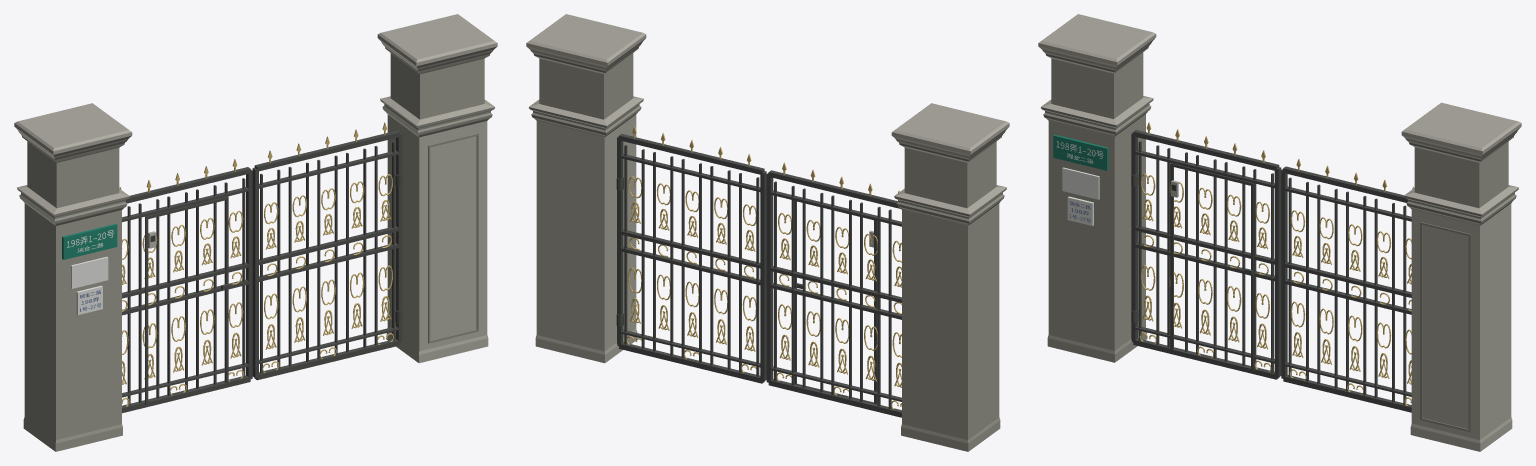
The model's file is huangpu-anhe-terrace-ruijin-gate-raw.glb.
3 views of the same model, side by side, from view 1: azimuth 30°, elevation 25°; view 2: azimuth 150°, elevation 25°; view 3: azimuth 330°, elevation 25° (orthographic).
Visible parts, largest first — view 1: 安和新村瑞金二路198弄金饰铁门与门牌柱; view 2: 安和新村瑞金二路198弄金饰铁门与门牌柱; view 3: 安和新村瑞金二路198弄金饰铁门与门牌柱.
Part boxes in pixels (<box>): 安和新村瑞金二路198弄金饰铁门与门牌柱: <box>14,14,497,451</box>; 安和新村瑞金二路198弄金饰铁门与门牌柱: <box>526,14,1009,451</box>; 安和新村瑞金二路198弄金饰铁门与门牌柱: <box>1038,14,1521,451</box>.
Size of the model in its own units: 6.12 by 4.03 by 0.926.
